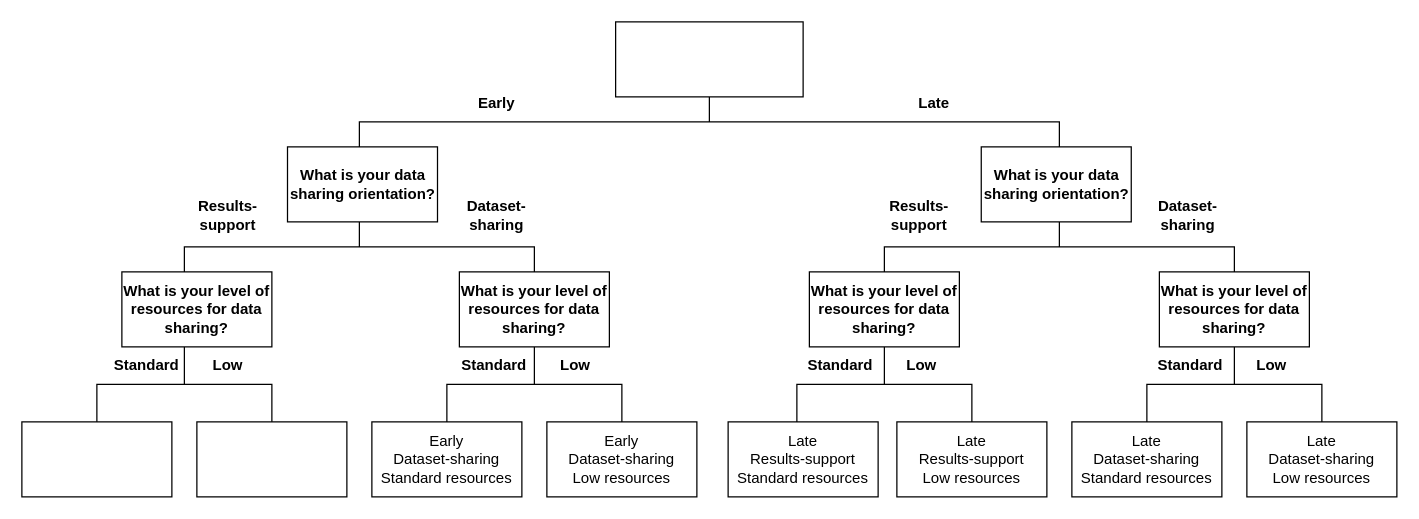
The diagram is 1419 pixels wide and 519 high, and some of its shapes have lost their labels. Here are the shapes that lost their labels. From the top down, the centre of each, then its label:
point 708,59: Are you early or late in your study?
point 96,459: Early Results-support Standard resources
point 271,459: Early Results-support Low resources
